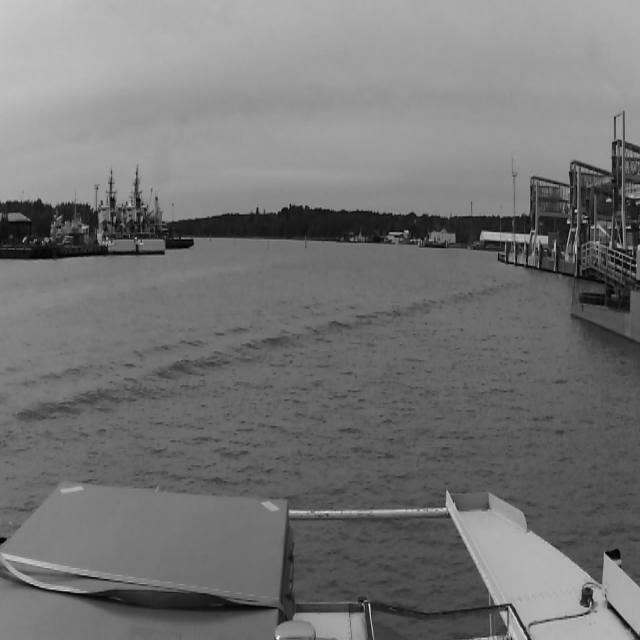ship: (98, 167, 136, 254), (137, 166, 165, 254), (165, 227, 191, 257)
